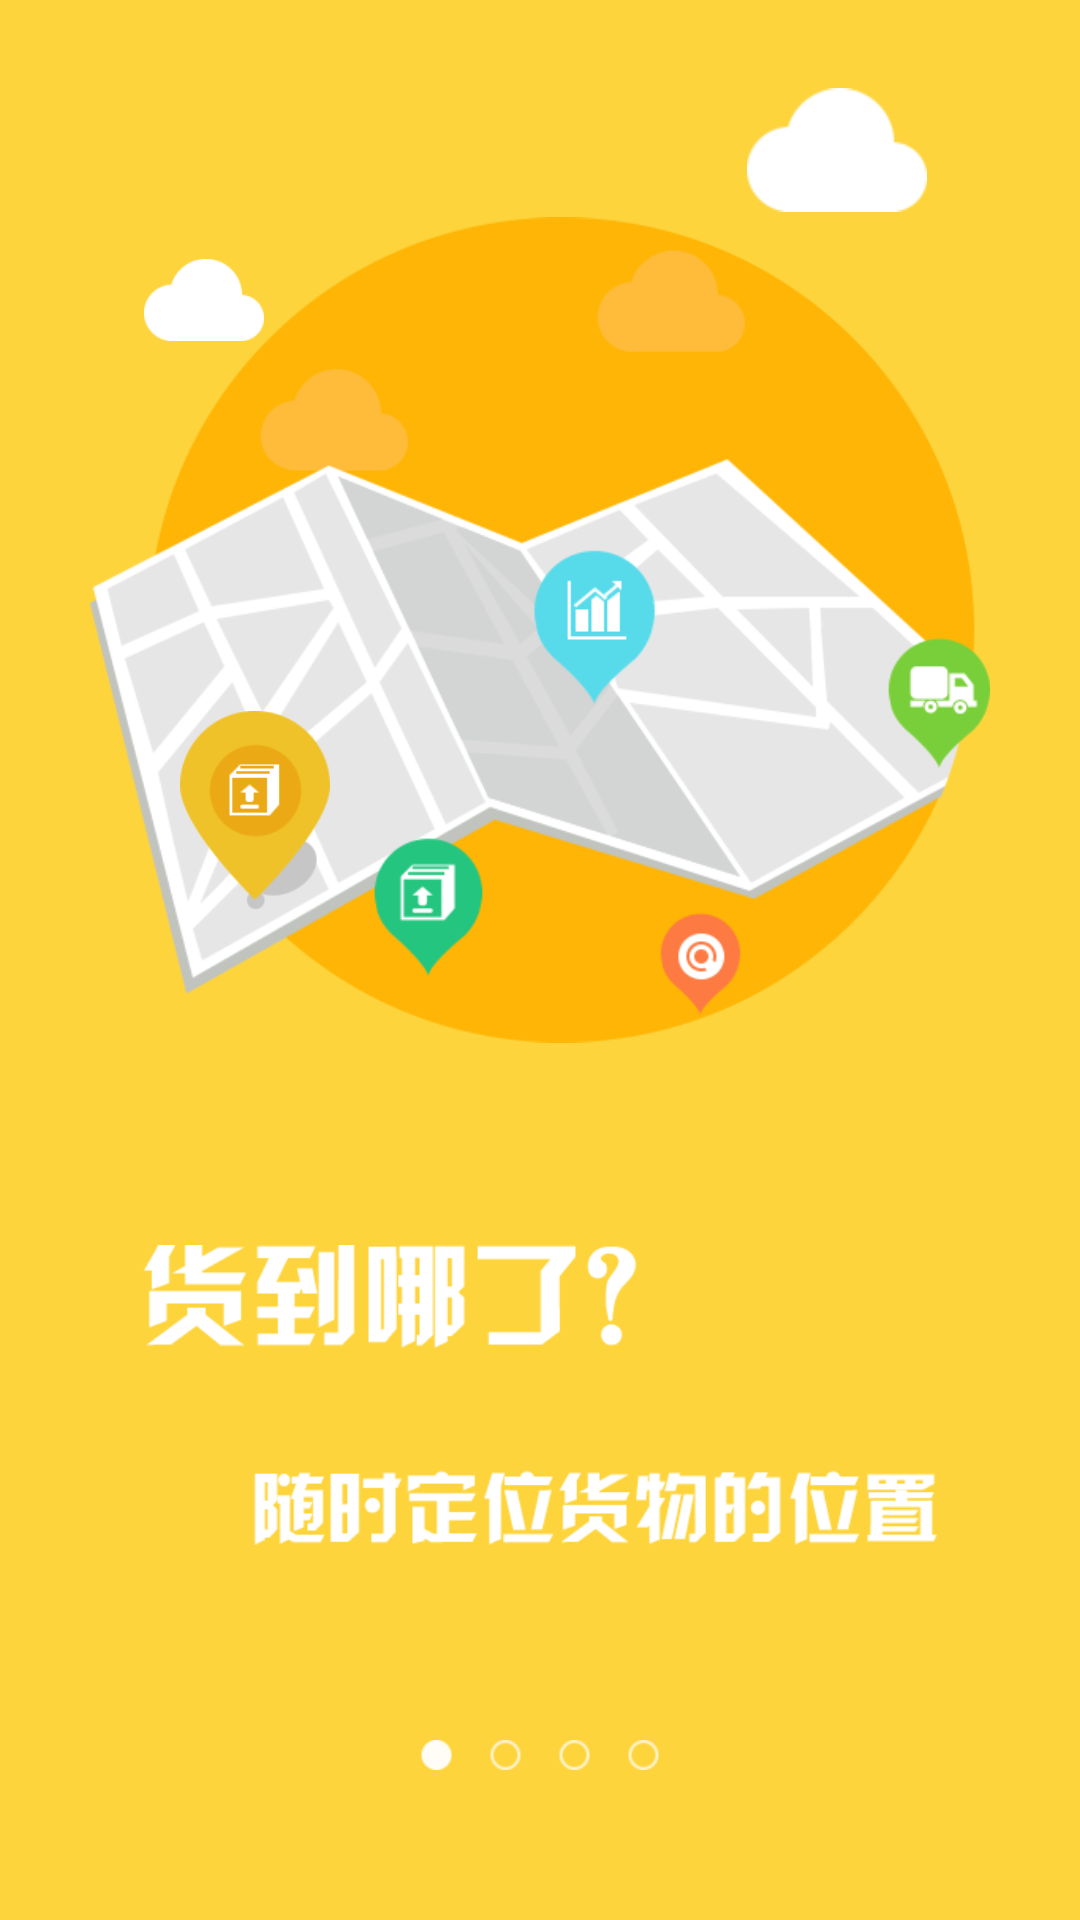

Screen size 1080 × 1920. Icon name, then its box in pixels as (x1, y1, x2, y2):
cloud: (747, 88, 927, 212), (144, 259, 264, 341)
